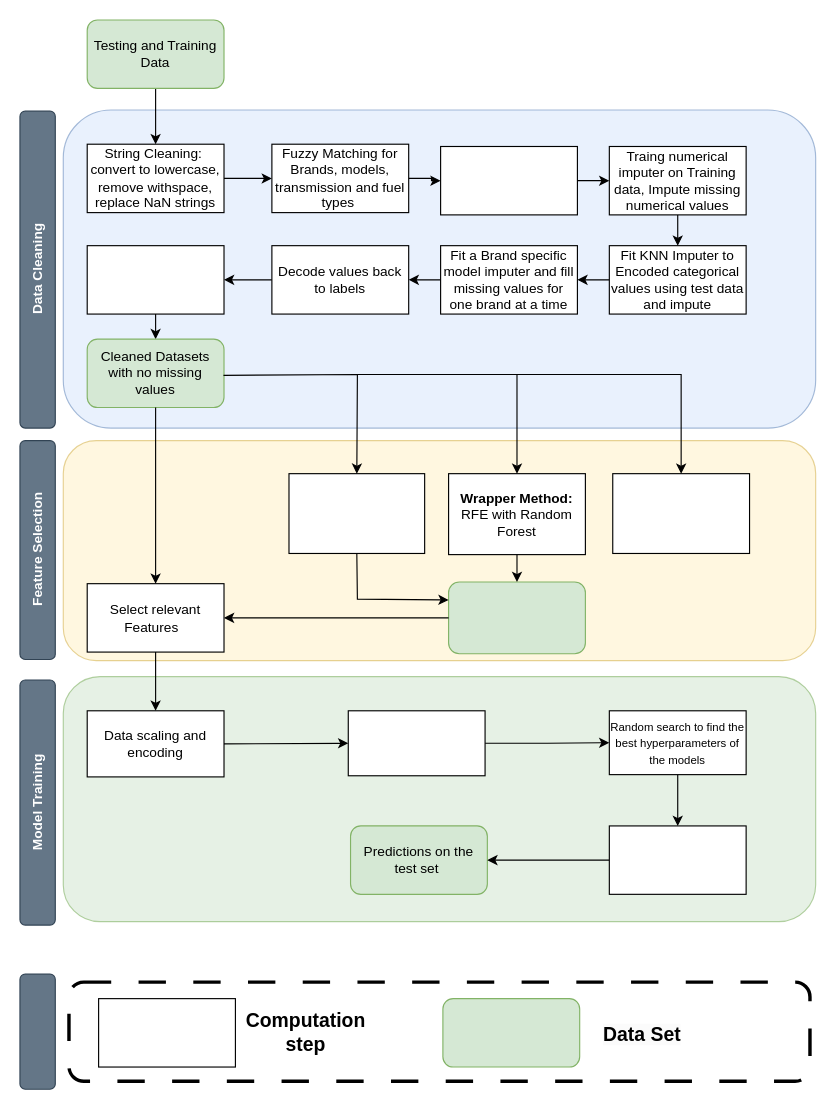
The diagram is 836 pixels wide and 1109 high, and some of its shapes have lost their labels. Here are the shapes that lost their labels. From the top down, the centre of each, then its label:
At [508,180]: "Fit Label encoding on training data".
At [155,279]: "Round numbers, fix paint quailty, ensure positive values".
At [356,513]: "Filter Method: Variance Threshold, Spearman correlation ANOVA F-statistic".
At [681,513]: "Embedded Method: Lasso".
At [516,617]: "Final Features selected".
At [416,743]: "Baseline fitting and evaluation".
At [677,859]: "Predict Price of Testing data".
At [37,1031]: "Legend".
